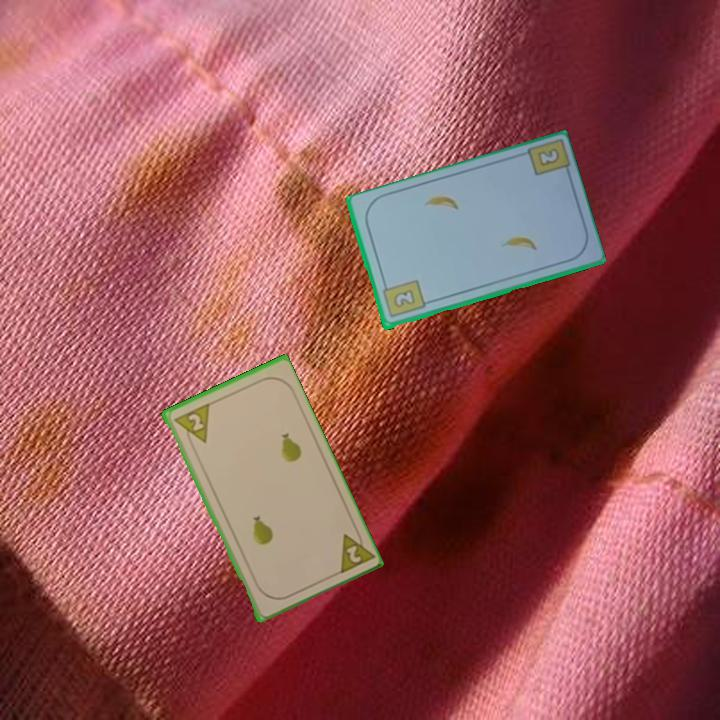2b: (379, 276, 428, 321), (534, 144, 562, 170)
2p: (333, 524, 376, 577), (170, 400, 212, 450)
